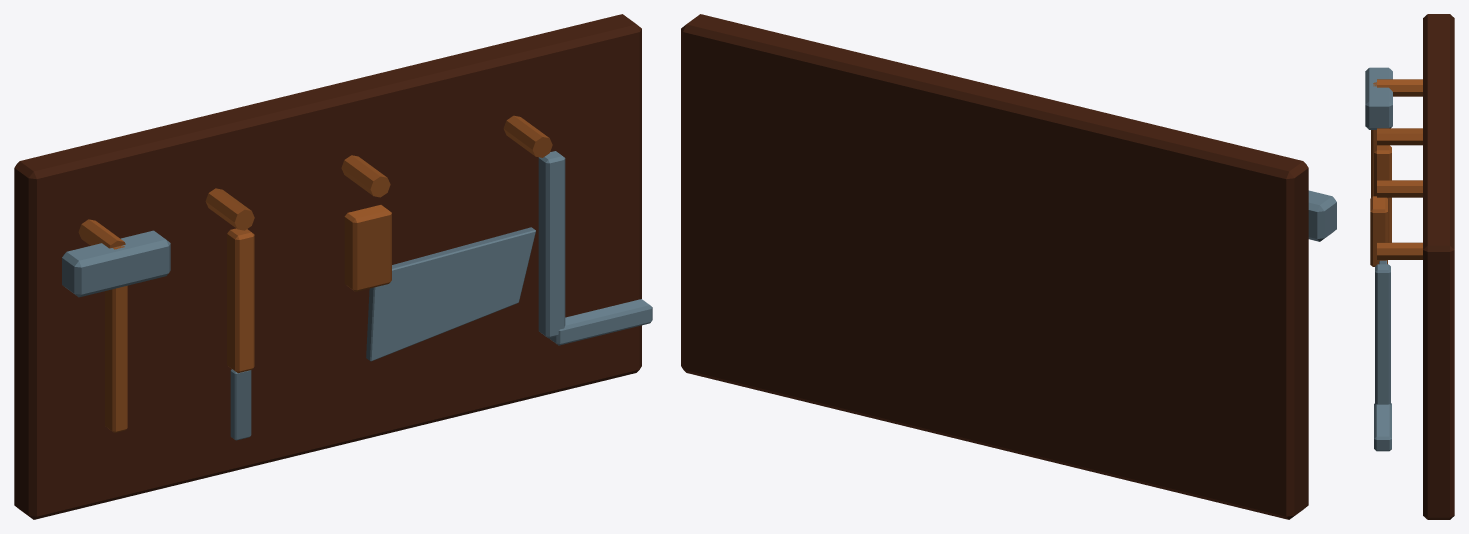
The model's file is EH_WallToolRack.fbx.
3 views of the same model, side by side, from view 1: azimuth 30°, elevation 25°; view 2: azimuth 150°, elevation 25°; view 3: azimuth 270°, elevation 25° (orthographic). The views are drawn at different scales.
Visible parts, largest first — view 1: EH_WallToolRack; view 2: EH_WallToolRack; view 3: EH_WallToolRack.
Boxes of the visible parts, x1,y1,x2,y2 form: EH_WallToolRack: (14, 14, 652, 519); EH_WallToolRack: (681, 14, 1336, 519); EH_WallToolRack: (1365, 14, 1454, 519).
Bounding box in the file's own units: 1.4 × 0.76 × 0.225.
